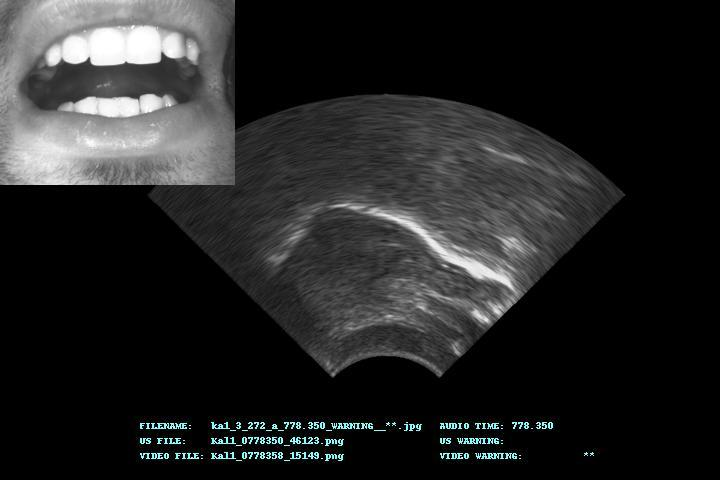-a-: (152, 96, 623, 376)
